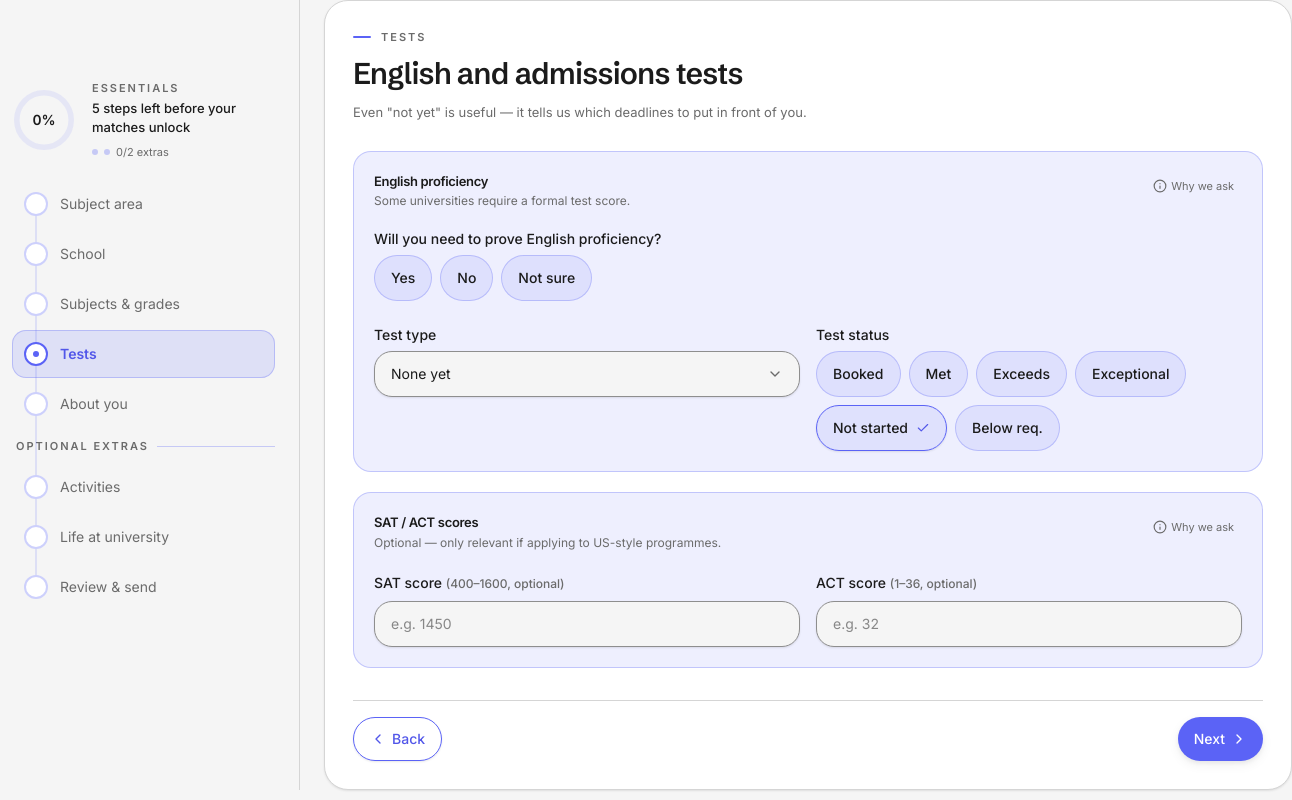
Test case: step navigation › gates the TESTS screen on the English question, and not on subjects
The image size is (1292, 800).
Click the button "Next" at (1220, 739), box [1178,717,1263,761]
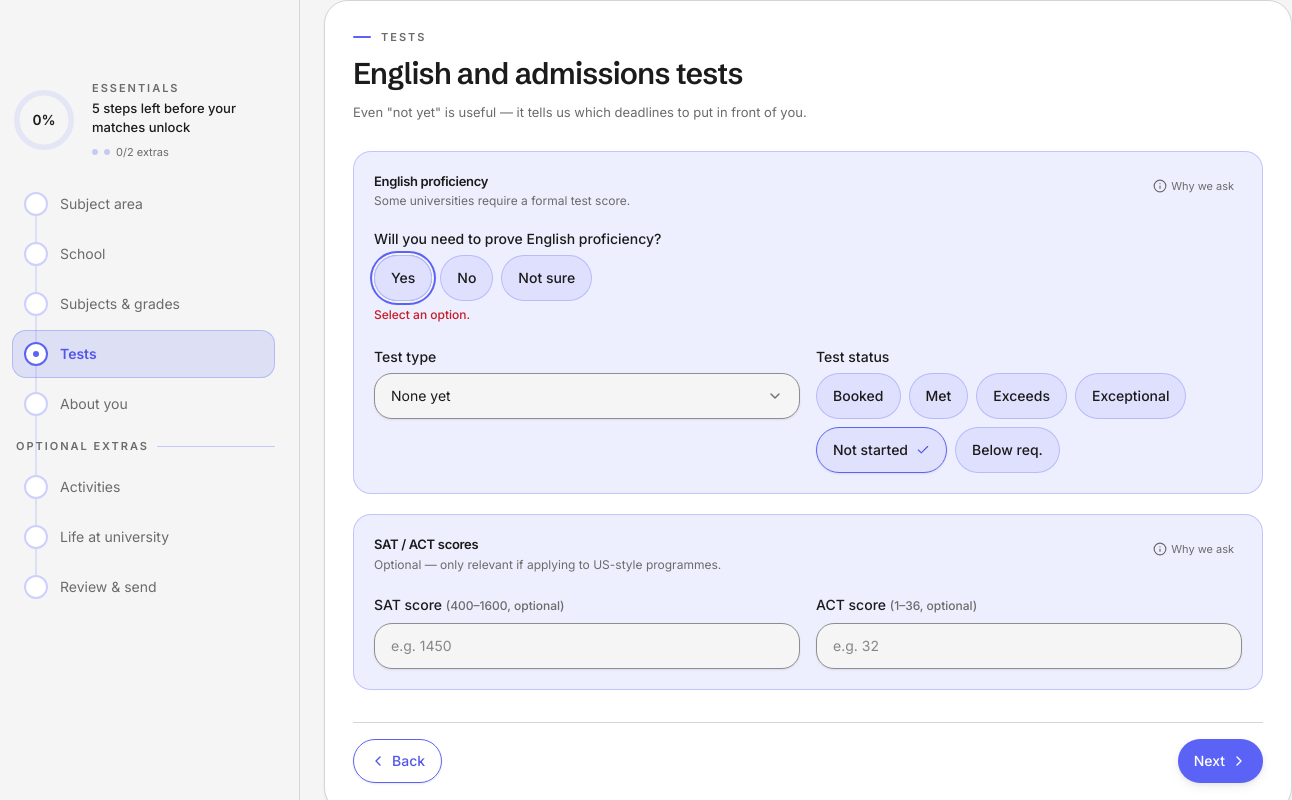
Result: the text "Select an option." is shown at [374,307,470,322]
